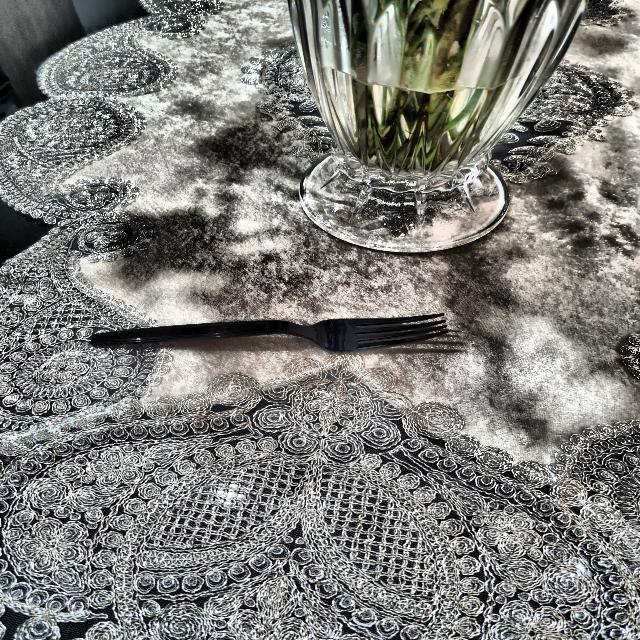plastic utensil: (83, 310, 452, 359)
